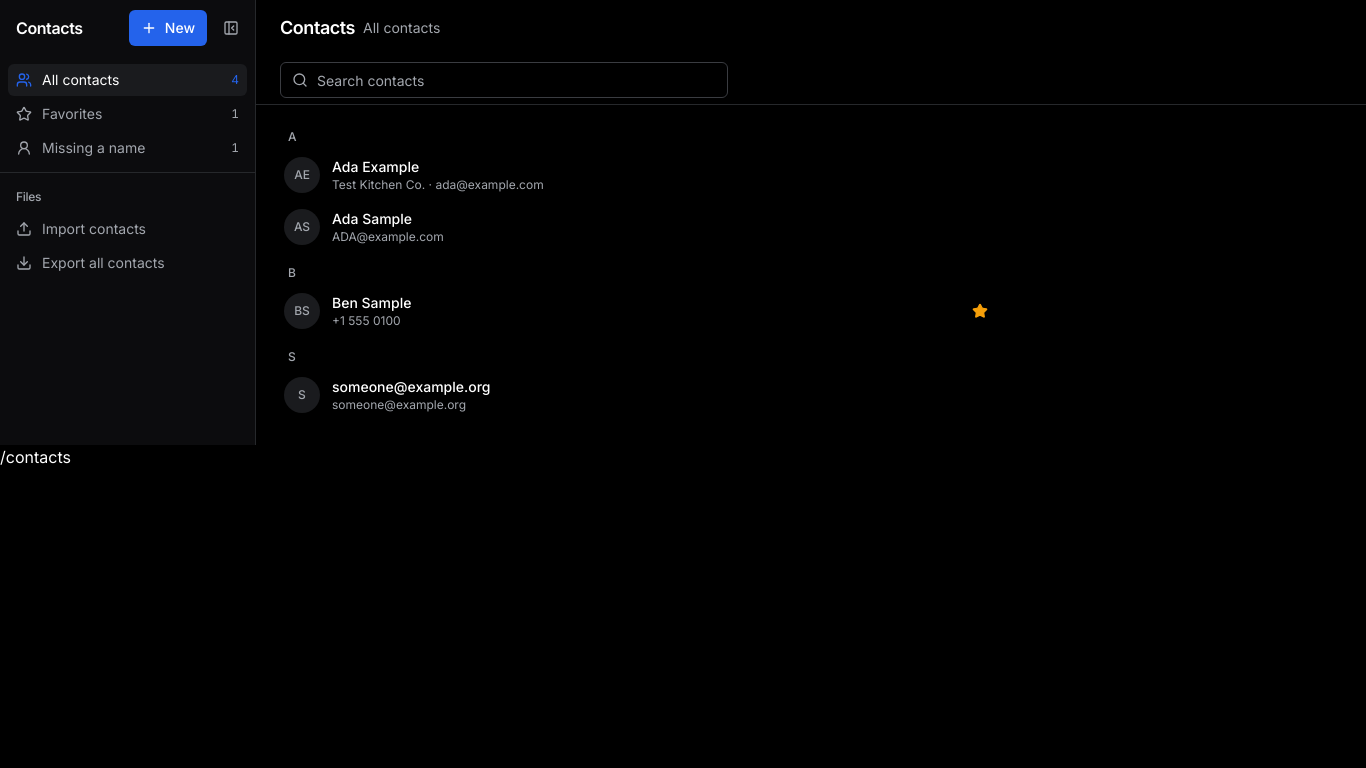
Test case: Contacts › sets a company on the selected contacts and sends only the ticked field
Click the button with aria-label "Select Ada Example". click: click(302, 175)
box: [284, 157, 320, 193]
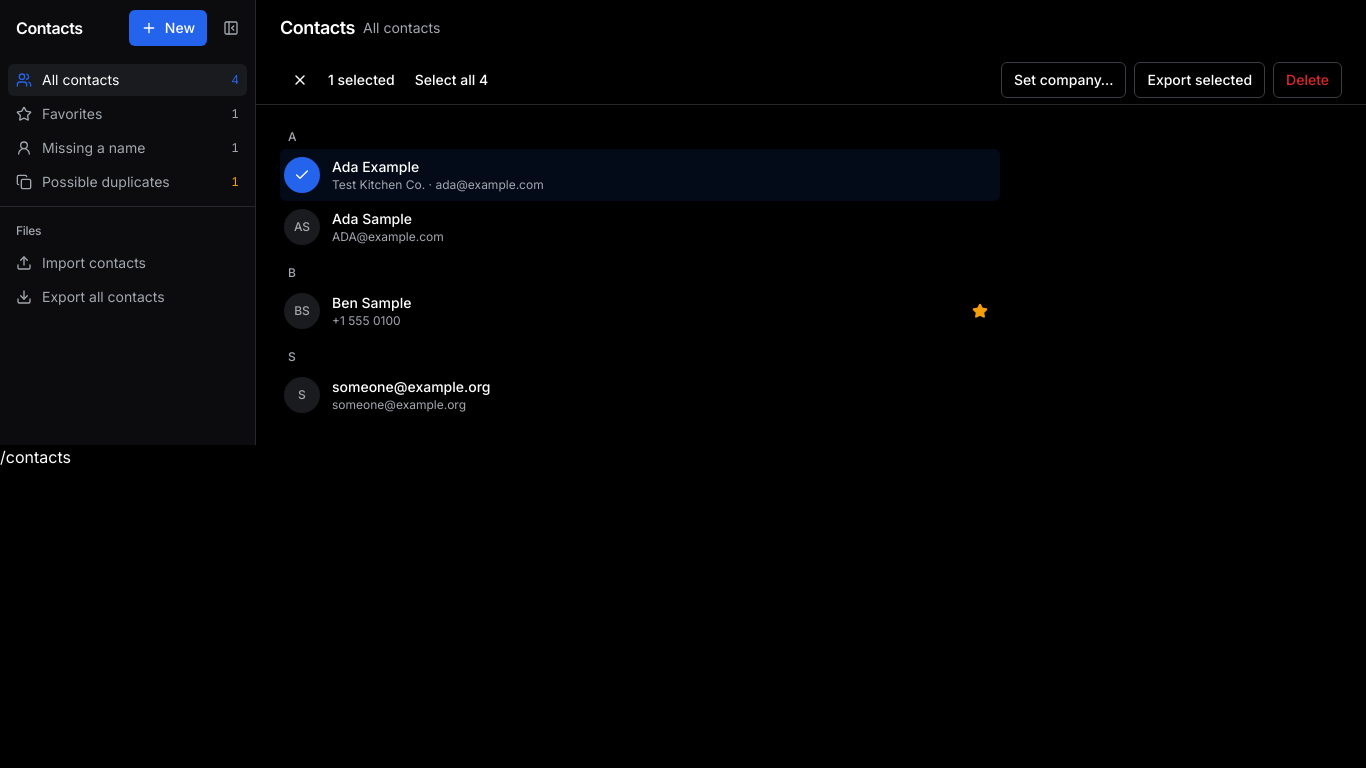
Click the button with aria-label "Select Ben Sample". click: click(302, 311)
box: [284, 293, 320, 329]
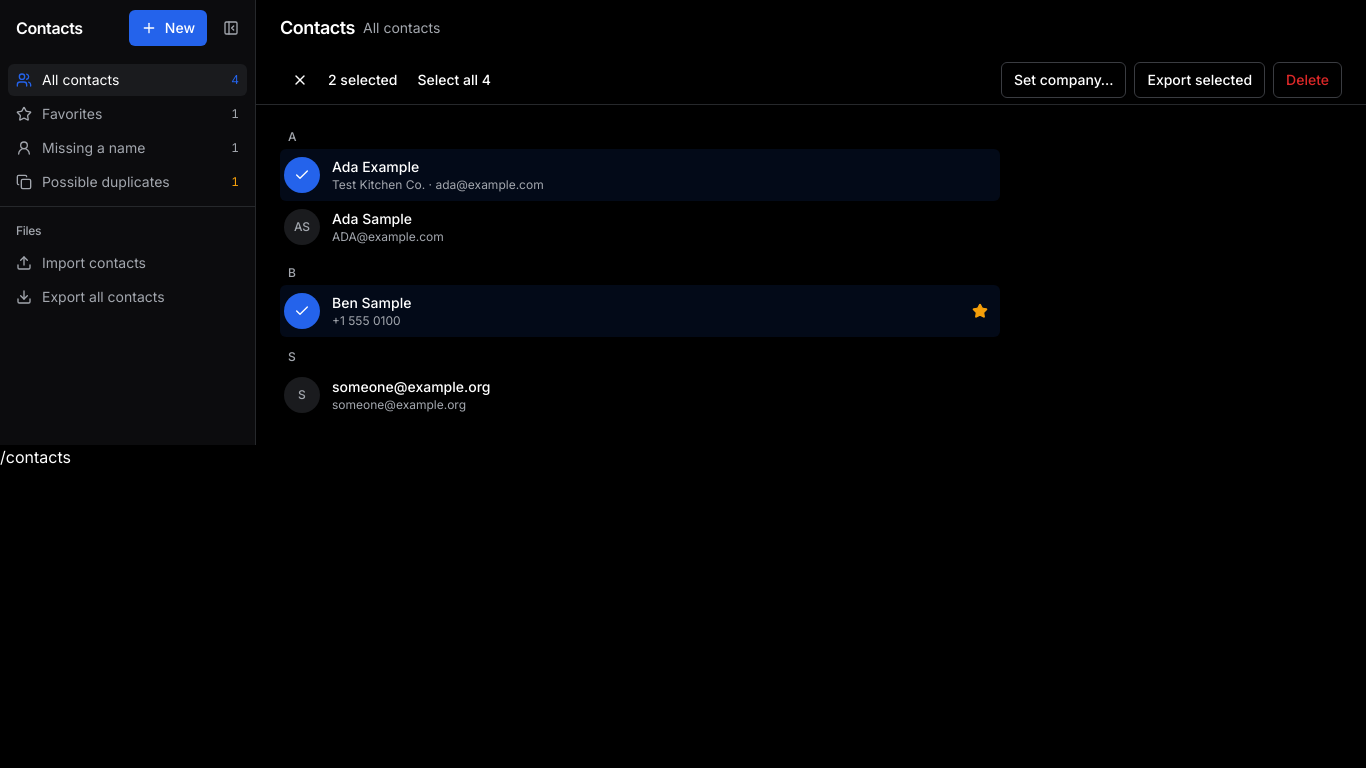
Click the button "Set company…". click: click(1064, 80)
box: [1001, 62, 1126, 98]
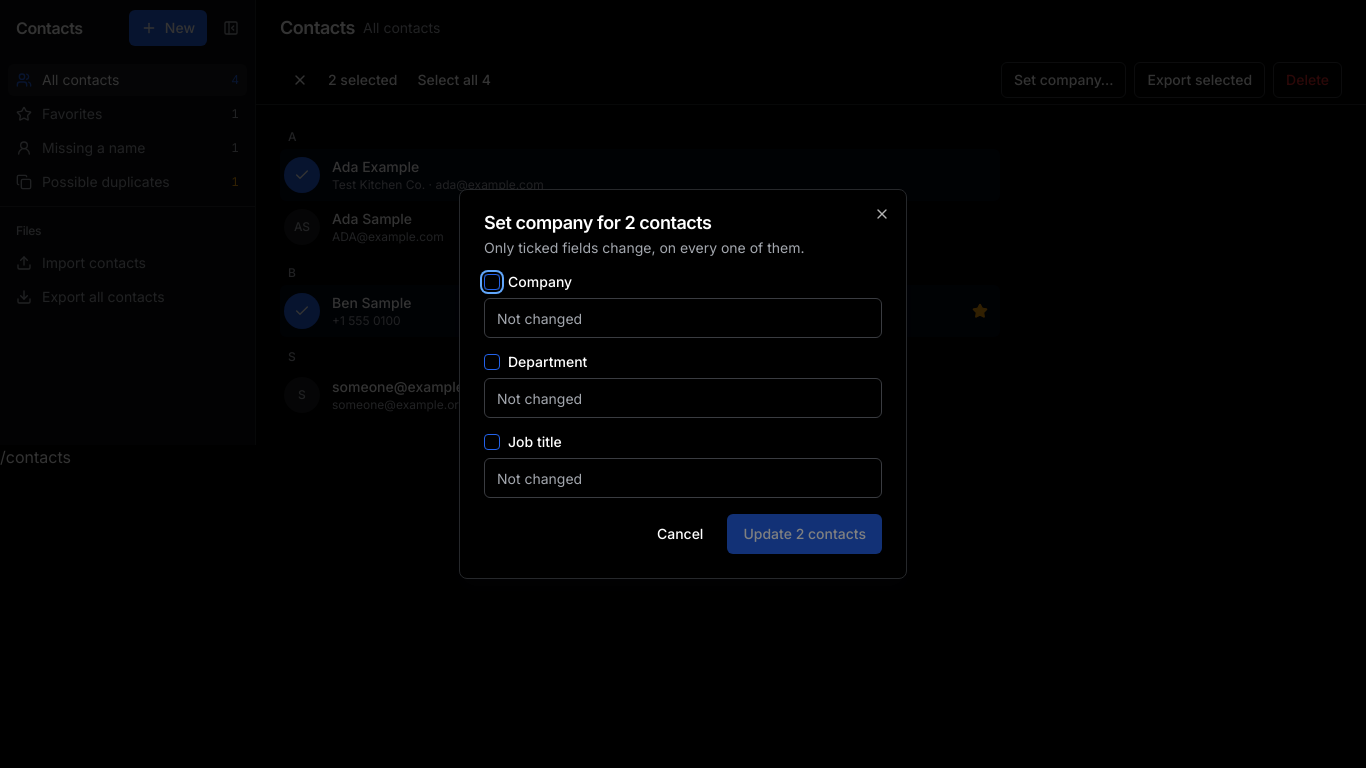
Expected: the button "Update 2 contacts" is disabled, [727, 514, 882, 554]
Type "Example Ltd" into the field named "Company". click: (683, 318)
box: [484, 298, 882, 338]
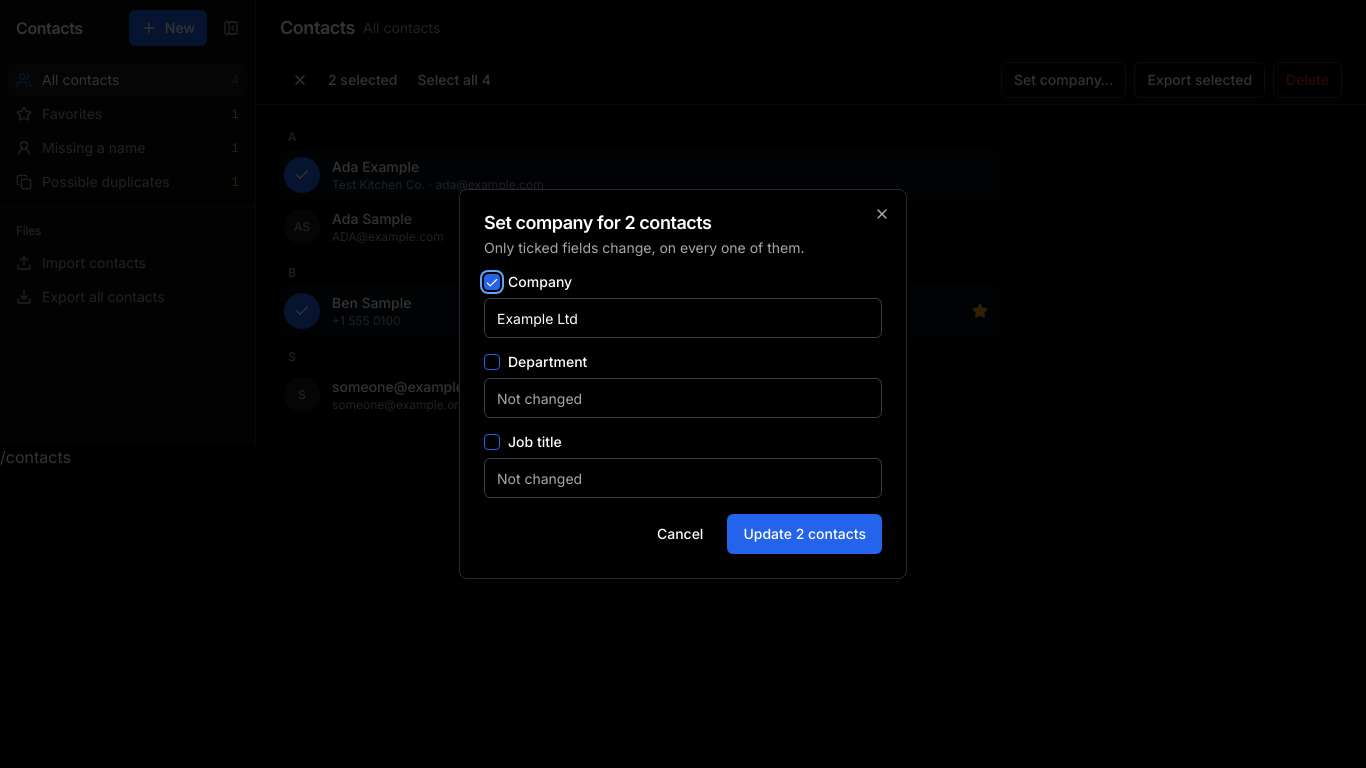
Click the button "Update 2 contacts". click: click(805, 534)
box: [727, 514, 882, 554]
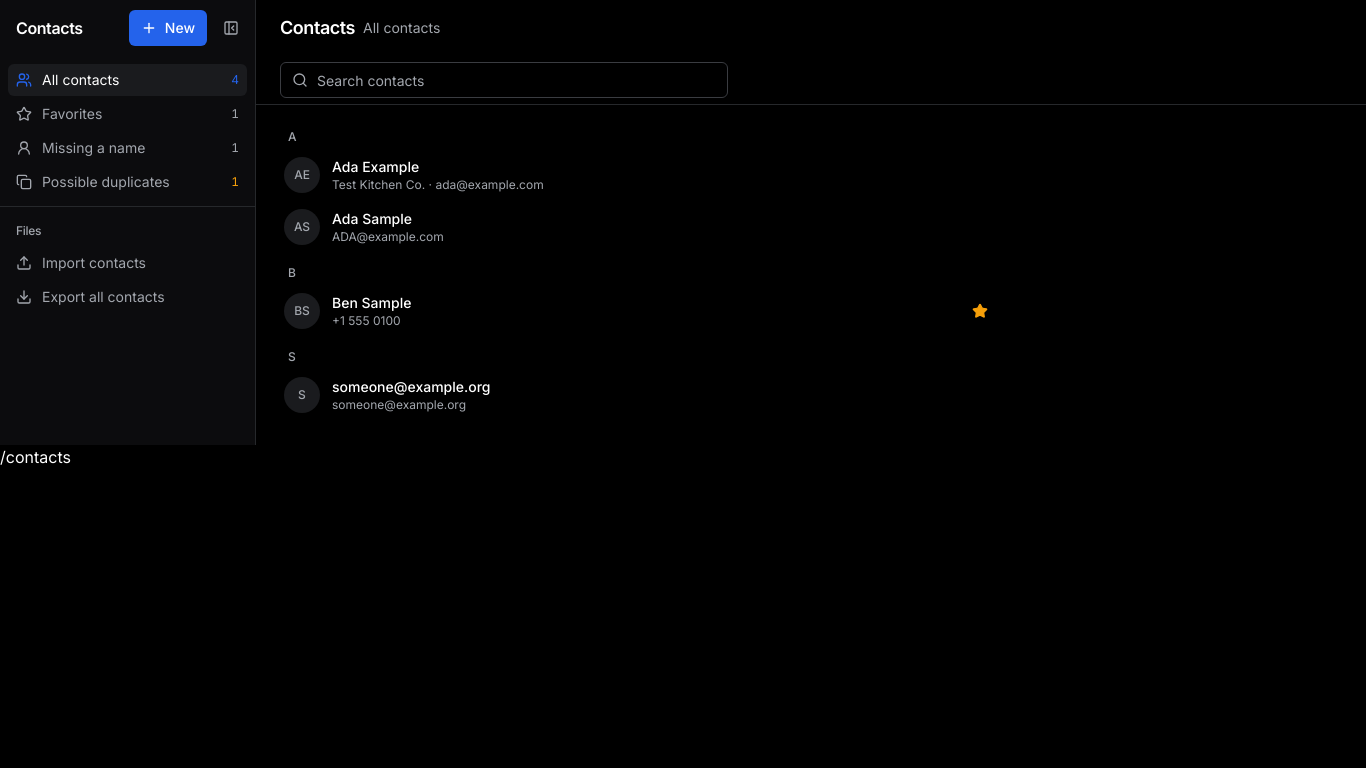
Expected: the text "2 selected" is gone
